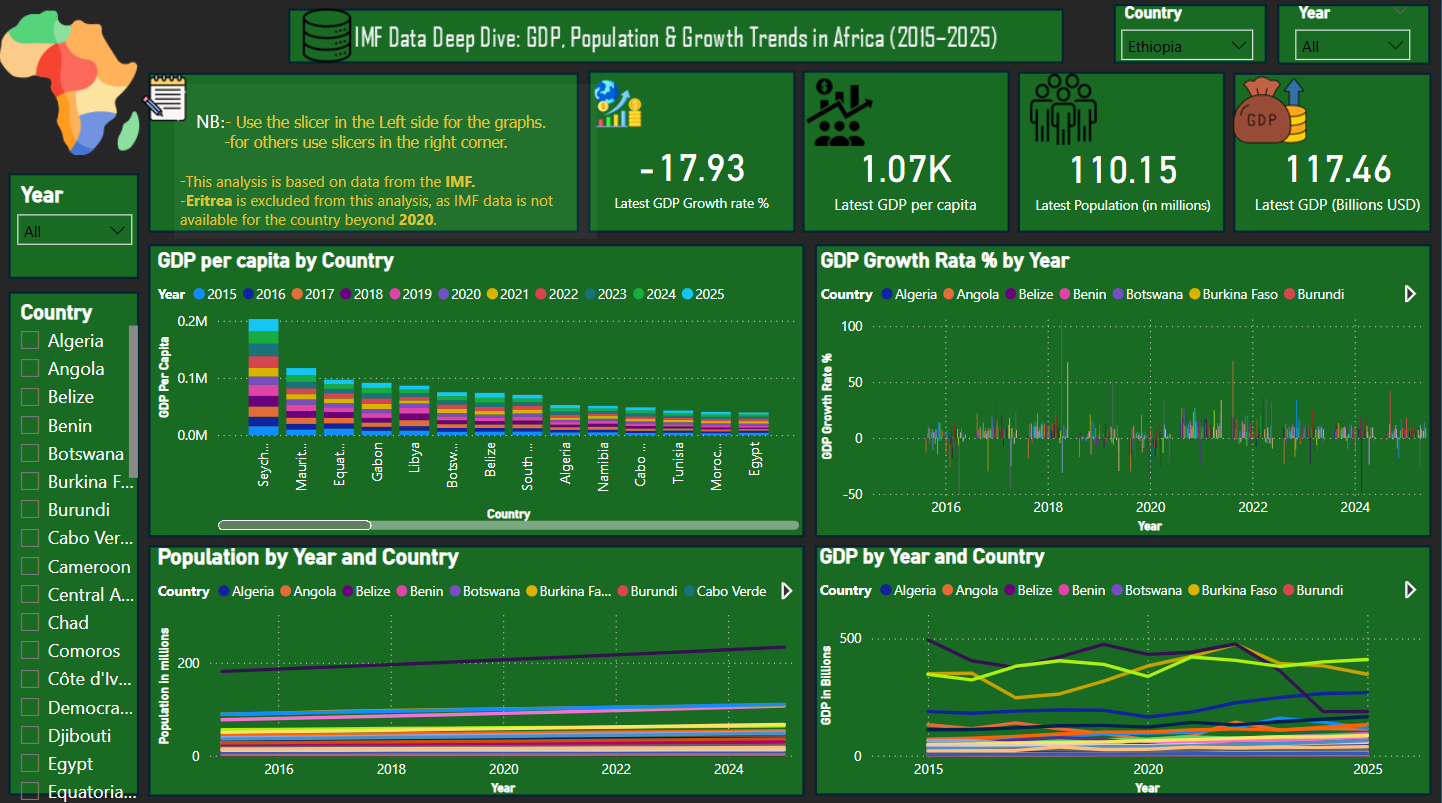

The dashboard page shown, as its layout file describes it:
{"tool":"powerbi","page":{"name":"Page 1","canvas":[1280,720],"ordinal":0},"visuals":[{"type":"card","fields":{"Values":["GDP & Pop_n.Latest GDP per capita"]},"box":[714.9,88.5,179.9,137.1],"z":0},{"type":"card","fields":{"Values":["GDP & Pop_n.Latest GDP Growth rate %"]},"box":[524.3,88.5,181.9,133.3],"z":1000},{"type":"card","fields":{"Values":["GDP & Pop_n.Latest Population (in millions)"]},"box":[907.5,88.5,180.9,137.1],"z":2000},{"type":"card","fields":{"Values":["GDP & Pop_n.Latest GDP (Billions USD)"]},"box":[1096.2,88.5,183.8,137.1],"z":3000},{"type":"slicer","fields":{"Values":["GDP & Pop_n.Country"]},"box":[6.8,262.6,121.6,457.1],"z":4000},{"type":"slicer","fields":{"Values":["GDP & Pop_n.Year"]},"box":[6.8,157.6,121.6,89.5],"z":5000},{"type":"lineChart","title":"Population by Year and Country","fields":{"Y":["Sum(GDP & Pop_n.Pop_n in millions)"],"Category":["GDP & Pop_n.Year"],"Series":["GDP & Pop_n.Country"]},"box":[136.2,484.4,578.7,226.6],"z":6000},{"type":"lineChart","title":" GDP  by Year and Country","fields":{"Y":["Sum(GDP & Pop_n.GDP in Billions)"],"Category":["GDP & Pop_n.Year"],"Series":["GDP & Pop_n.Country"]},"box":[723.6,484.4,547.6,226.6],"z":7000},{"type":"clusteredColumnChart","title":" GDP Growth Rata % by Year ","fields":{"Y":["Sum(GDP & Pop_n.GDP Growth Rata %)"],"Category":["GDP & Pop_n.Year"],"Series":["GDP & Pop_n.Country"]},"box":[724,221.8,547,257],"z":8000},{"type":"columnChart","title":" GDP per capita by Country","fields":{"Category":["GDP & Pop_n.Country"],"Y":["Sum(GDP & Pop_n.GDP per capita)"],"Series":["GDP & Pop_n.Year"]},"box":[136.2,221.8,578.7,254.8],"z":9000},{"type":"textbox","box":[155.6,75.9,375.4,137.1],"z":10000},{"type":"slicer","fields":{"Values":["GDP & Pop_n.Country"]},"box":[986.3,0,137.1,60.3],"z":11000},{"type":"slicer","fields":{"Values":["GDP & Pop_n.Year"]},"box":[1139.9,0,121.6,60.3],"z":12000}]}

Visuals, with their boxes in screenshot pixels (x1, y1, x2, y2), scaled from the page's 1280x720 canvas onto the 1442x803 screenshot:
card - GDP & Pop_n.Latest GDP per capita: box(805, 99, 1008, 252)
card - GDP & Pop_n.Latest GDP Growth rate %: box(591, 99, 796, 247)
card - GDP & Pop_n.Latest Population (in millions): box(1022, 99, 1226, 252)
card - GDP & Pop_n.Latest GDP (Billions USD): box(1235, 99, 1441, 252)
slicer - GDP & Pop_n.Country: box(8, 293, 145, 802)
slicer - GDP & Pop_n.Year: box(8, 176, 145, 276)
"Population by Year and Country" lineChart: box(153, 540, 805, 793)
" GDP  by Year and Country" lineChart: box(815, 540, 1432, 793)
" GDP Growth Rata % by Year " clusteredColumnChart: box(816, 247, 1432, 534)
" GDP per capita by Country" columnChart: box(153, 247, 805, 532)
textbox: box(175, 85, 598, 238)
slicer - GDP & Pop_n.Country: box(1111, 0, 1266, 67)
slicer - GDP & Pop_n.Year: box(1284, 0, 1421, 67)
